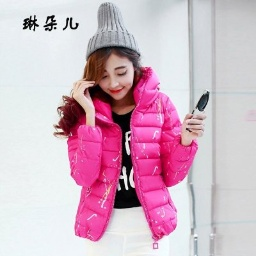face: (80, 44, 152, 101)
